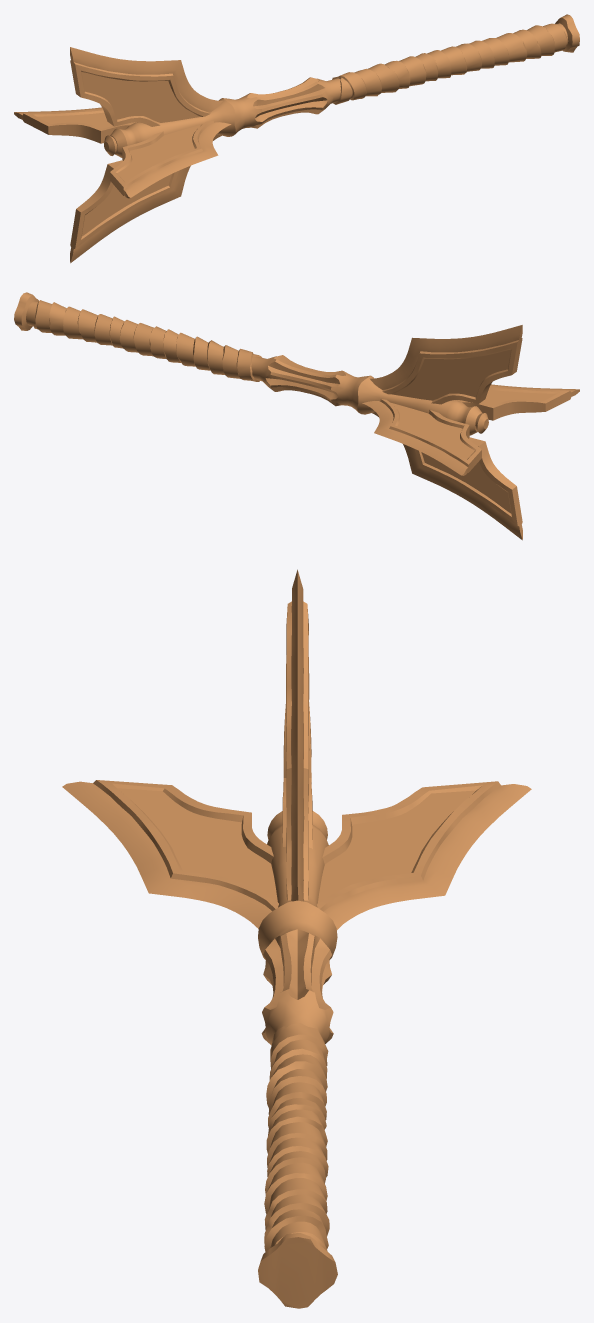
File: SM_Rune_Mace_4.fbx
3 renders of one model, top to bottom at view 1: azimuth 30°, elevation 25°; view 2: azimuth 150°, elevation 25°; view 3: azimuth 270°, elevation 25°, orthographic. The views are drawn at different scales.
Visible parts, largest first — view 1: SM_Rune_Mace_4; view 2: SM_Rune_Mace_4; view 3: SM_Rune_Mace_4.
Part boxes in pixels (x1,y1,x2,y2): SM_Rune_Mace_4: (14, 14, 579, 263); SM_Rune_Mace_4: (14, 292, 579, 540); SM_Rune_Mace_4: (62, 569, 531, 1308).
Size of the model in its own units: 0.957 by 0.3958 by 0.3901.
